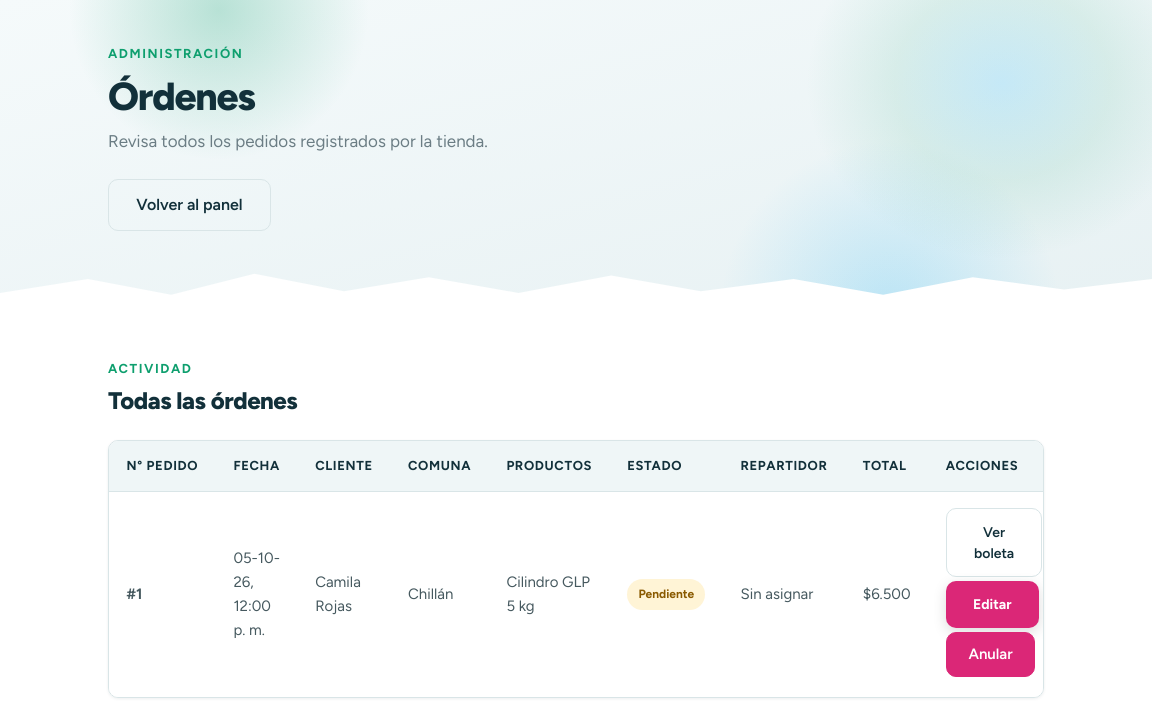
Test: Pedidos HTTP: seguridad y recuperación sin rediseño › HTTP 400 conserva formulario y selección sin repetir la escritura
Click the button "Editar". click: [992, 605]
box: [946,581,1039,628]
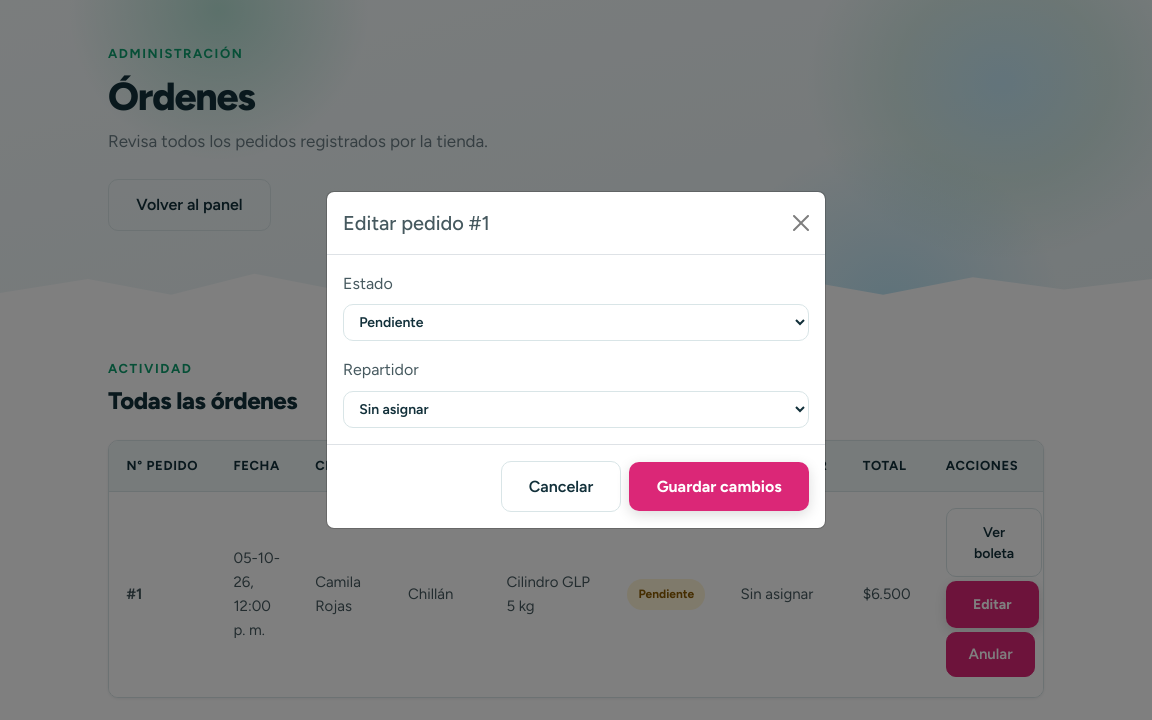
Select "Matías Vera - Repartidor" in the dropdown labelled "Repartidor". click: [576, 409]
box: [343,391,809,428]
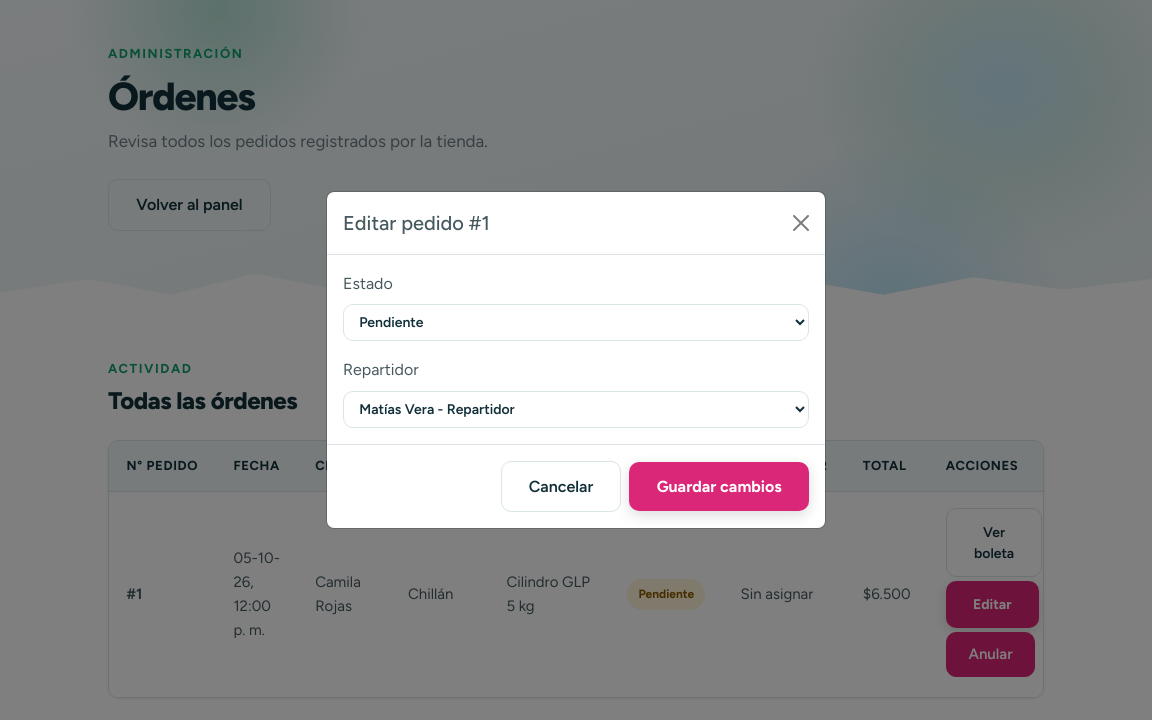
Submit the form, box [327,255,825,528]
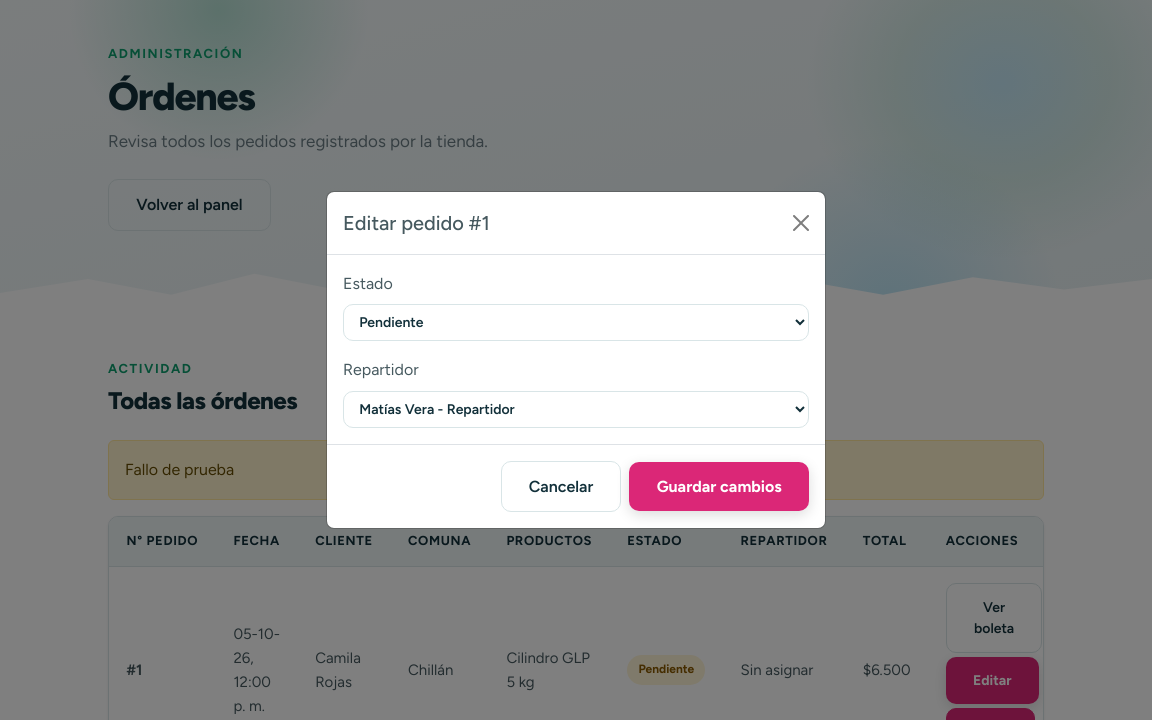
Expected: the button "Guardar cambios" is enabled, [629,462,809,511]
Expected: the dialog is shown, [326,191,826,529]
Expected: the text "Fallo de prueba" is shown, [108,440,1044,500]
